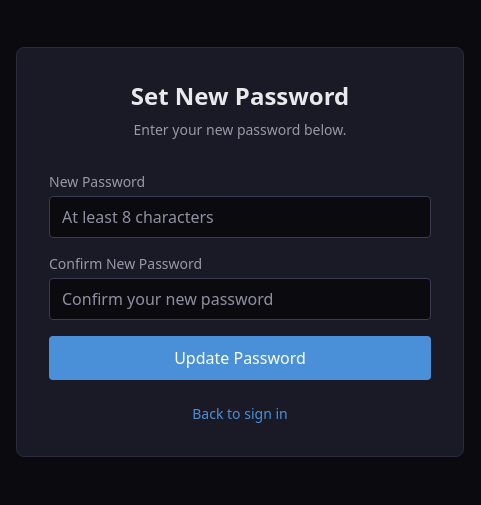
Test case: ResetPasswordPage › shows error when password is too short
Type "short" into the password field labelled "New Password" at (240, 217), box x1=49 y1=196 x2=431 y2=238
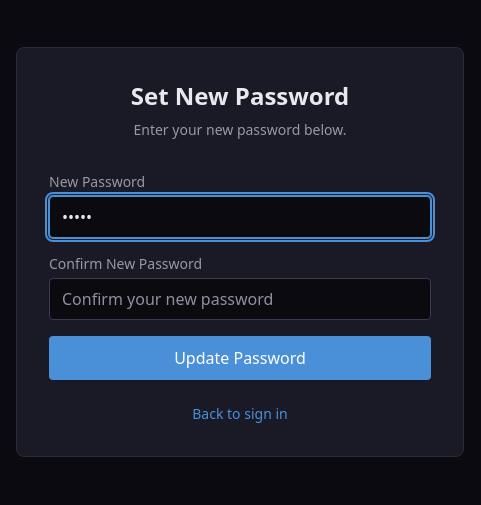
Type "short" into the password field labelled "Confirm New Password" at (240, 299), box x1=49 y1=278 x2=431 y2=320
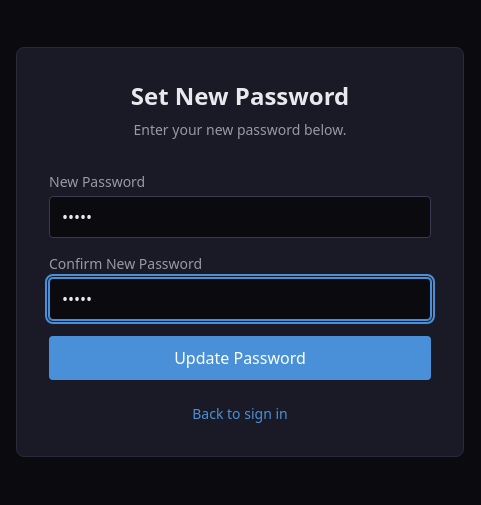
Click the button "Update Password" at (240, 358), box x1=49 y1=336 x2=431 y2=380
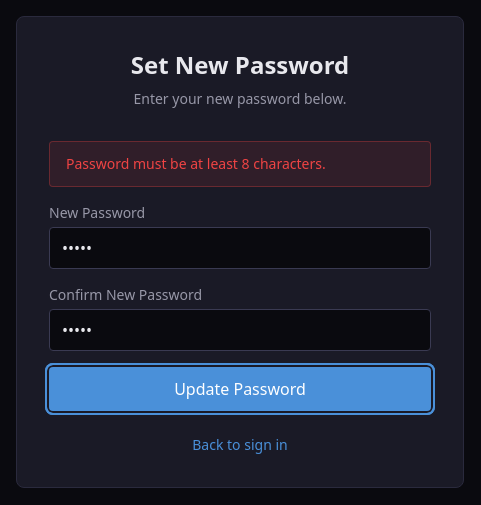
Check: the text "Password must be at least 8 characters." is shown, box x1=49 y1=141 x2=431 y2=187
